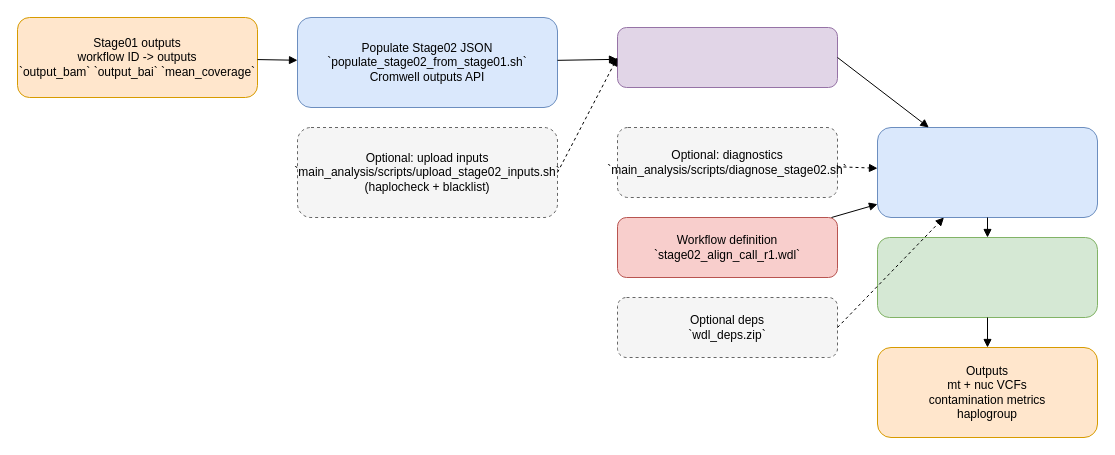
The diagram is 1115 pixels wide and 455 high, and some of its shapes have lost their labels. The box of each missing label's shape, as (x1, y1, x2, y2) in pixels:
Stage 02 workflow `StageAlignAndCallR1`: (876, 236, 1098, 318)
Stage02 inputs `stage02_align_call_r1.json`: (616, 26, 838, 88)
Submit to Cromwell `submit_stage02.sh` POST /api/workflows/v1: (876, 126, 1098, 218)
